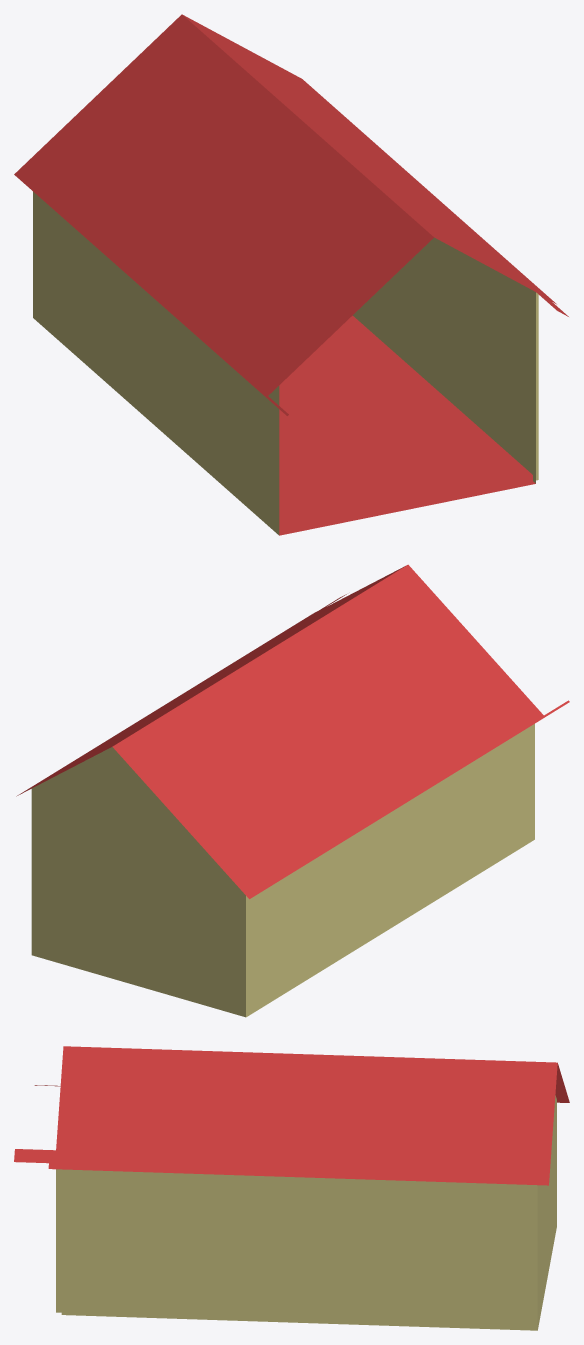
The picture shows the model from 3 angles, top to bottom: view 1: azimuth 30°, elevation 25°; view 2: azimuth 150°, elevation 25°; view 3: azimuth 270°, elevation 25°; orthographic projection. The views are drawn at different scales.
Size of the model in its own units: 12.84 by 22.91 by 10.28.
